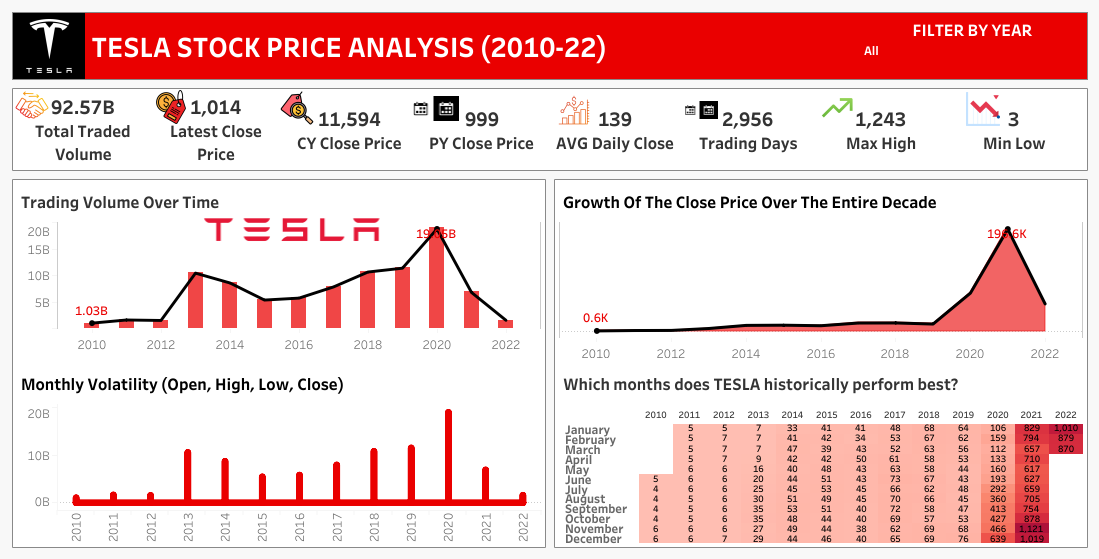

The dashboard page shown, as its layout file describes it:
{"tool":"tableau","page":{"name":"Dashboard 1","canvas":[1000,1000],"units":"permille","ordinal":0},"visuals":[{"type":"image","param":"Image/Tesla_Logo_White.png","box":[11.8,23.2,65.5,117.9]},{"type":"text","box":[77.3,23.2,702.7,117.9]},{"type":"filter","title":"Which months does TESLA historically perform best?","param":"[federated.0h3cb601m1iyxb1emzf7c03yz0kt].[yr:Date:ok]","box":[780,23.2,208.2,117.9]},{"type":"image","param":"Image/day.png","box":[370.9,153.6,46.4,80.4]},{"type":"image","param":"Image/t.png","box":[12.7,157.1,33.6,60.7]},{"type":"worksheet","title":"KPI","mark":"Automatic","box":[11.8,158.9,976.4,144.6]},{"type":"image","param":"Image/new.png","box":[139.1,160.7,33.6,60.7]},{"type":"image","param":"Image/cy.png","box":[253.6,162.5,33.6,60.7]},{"type":"image","param":"Image/high.png","box":[744.6,162.5,33.6,60.7]},{"type":"image","param":"Image/low.png","box":[877.3,164.3,33.6,60.7]},{"type":"image","param":"Image/avg close.png","box":[505.4,166.1,33.6,60.7]},{"type":"image","param":"Image/day.png","box":[619.1,166.1,33.6,60.7]},{"type":"worksheet","title":"Trading Volume Over Time","mark":"Bar","rows":["Volume","Volume"],"cols":["Date"],"box":[11.8,321.4,483.6,325.9]},{"type":"worksheet","title":"Growth Of The Close Price Over The Entire Decade","mark":"Automatic","rows":["Close","Close"],"cols":["Date"],"box":[504.6,321.4,483.6,325]},{"type":"image","param":"Image/TESLA.png","box":[144.6,326.8,247.3,175]},{"type":"worksheet","title":"Which months does TESLA historically perform best?","mark":"Square","rows":["Date"],"cols":["Date"],"box":[504.6,646.4,483.6,330.3]},{"type":"worksheet","title":"Monthly Volatility (Open, High, Low, Close)","mark":"Automatic","cols":["Date"],"box":[11.8,647.3,483.6,329.5]}]}

Visuals, with their boxes on the dashboard's canvas, which has no fixed pixel size, in thousandths of its width and height (x1, y1, x2, y2). These are canvas units, not pixel positions in the 1099x559 screenshot, which may show the page scaled, cropped or inside an application window:
image: <region>12, 23, 77, 141</region>
text: <region>77, 23, 780, 141</region>
"Which months does TESLA historically perform best?" filter: <region>780, 23, 988, 141</region>
image: <region>371, 154, 417, 234</region>
image: <region>13, 157, 46, 218</region>
"KPI" worksheet: <region>12, 159, 988, 304</region>
image: <region>139, 161, 173, 221</region>
image: <region>254, 162, 287, 223</region>
image: <region>745, 162, 778, 223</region>
image: <region>877, 164, 911, 225</region>
image: <region>505, 166, 539, 227</region>
image: <region>619, 166, 653, 227</region>
"Trading Volume Over Time" worksheet (Bar marks): <region>12, 321, 495, 647</region>
"Growth Of The Close Price Over The Entire Decade" worksheet: <region>505, 321, 988, 646</region>
image: <region>145, 327, 392, 502</region>
"Which months does TESLA historically perform best?" worksheet (Square marks): <region>505, 646, 988, 977</region>
"Monthly Volatility (Open, High, Low, Close)" worksheet: <region>12, 647, 495, 977</region>
